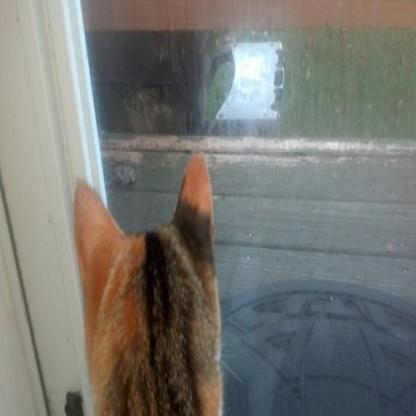Target: (68, 159, 231, 416)
